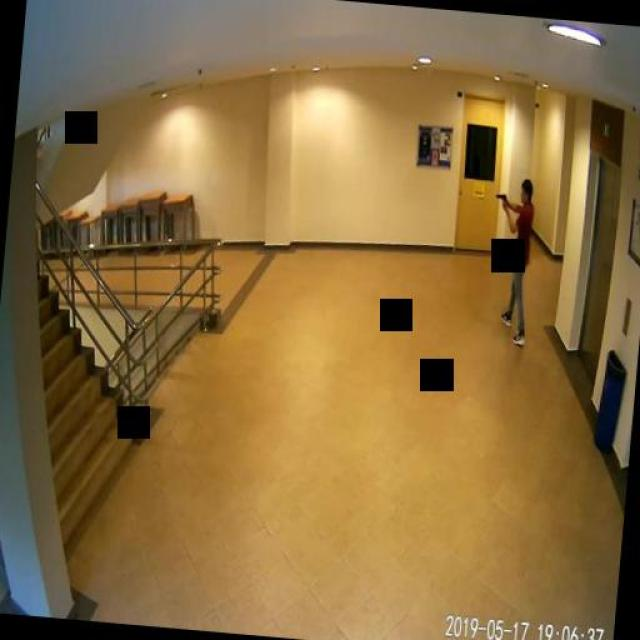gun: (492, 192, 507, 206)
